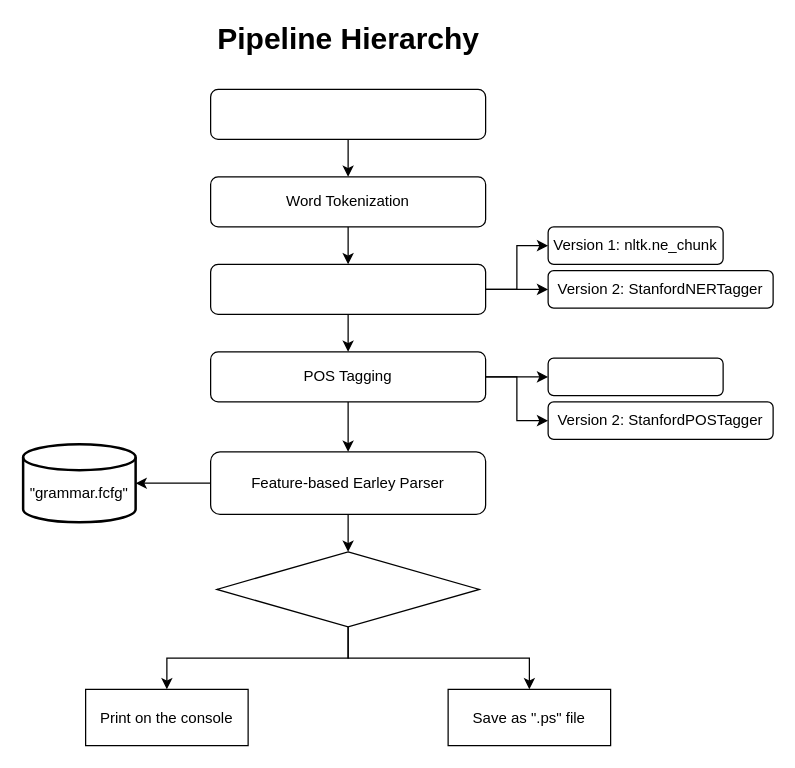
This 795x768 diagram has some shape labels left out. Here are the shapes that lost their labels. From the top down, the centre of each, then its label:
(x=347, y=113): Sentence Splitting
(x=347, y=288): Named Entity Module
(x=635, y=376): Version 1: nltk.pos_tag
(x=347, y=589): Print or/and Save
